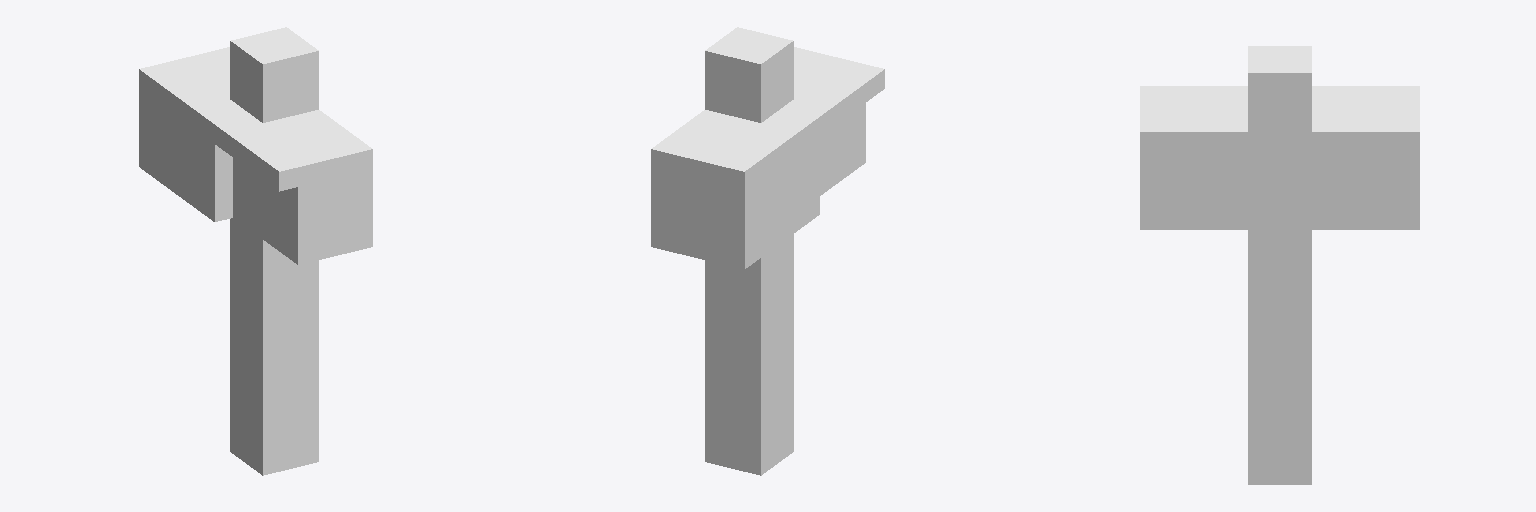
Rendered from light2.obj.
3 renders of one model, left to right at view 1: azimuth 30°, elevation 25°; view 2: azimuth 150°, elevation 25°; view 3: azimuth 270°, elevation 25°, orthographic.
Parts seen in each view (by area): view 1: object 1; view 2: object 1; view 3: object 1.
Part boxes in pixels (x1,y1,x2,y2): object 1: (139, 27, 372, 475); object 1: (651, 27, 884, 475); object 1: (1140, 46, 1419, 484).
Size of the model in its own units: 0.5 by 2.1 by 1.3.